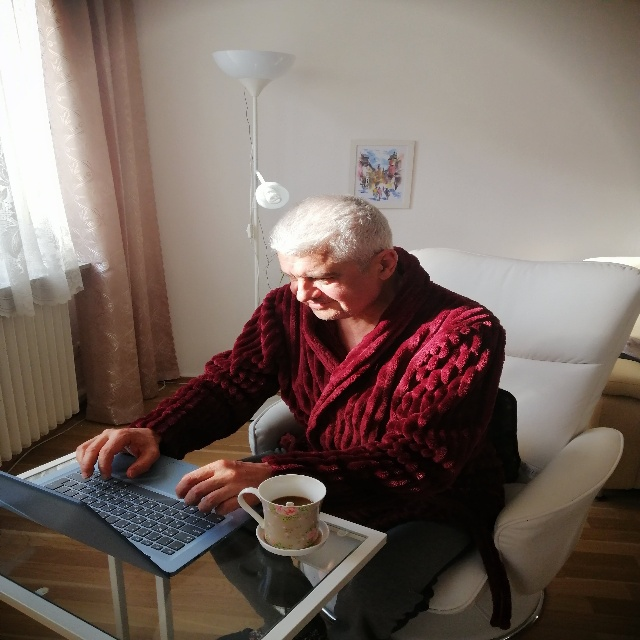Sin_guantes: (175, 460, 268, 517), (75, 426, 159, 480)
